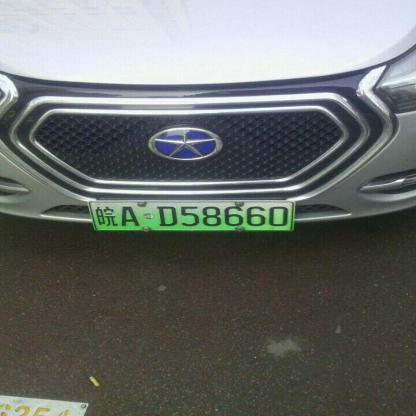lp: (86, 201, 294, 231)
